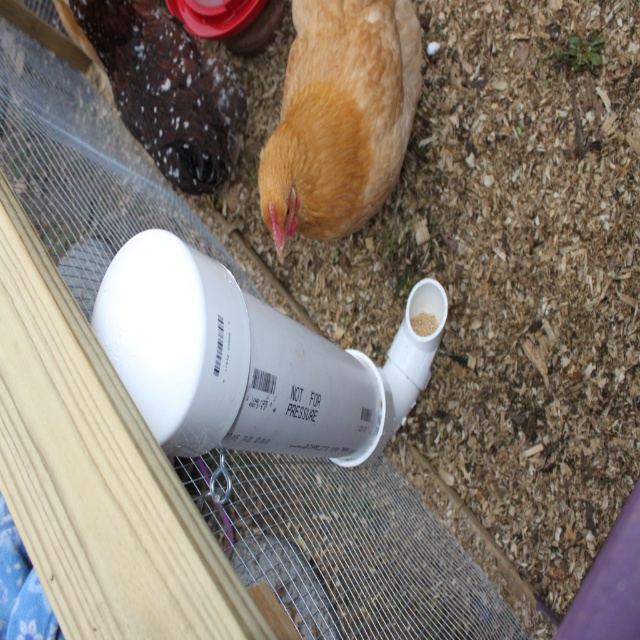Chicken: (250, 4, 416, 259)
